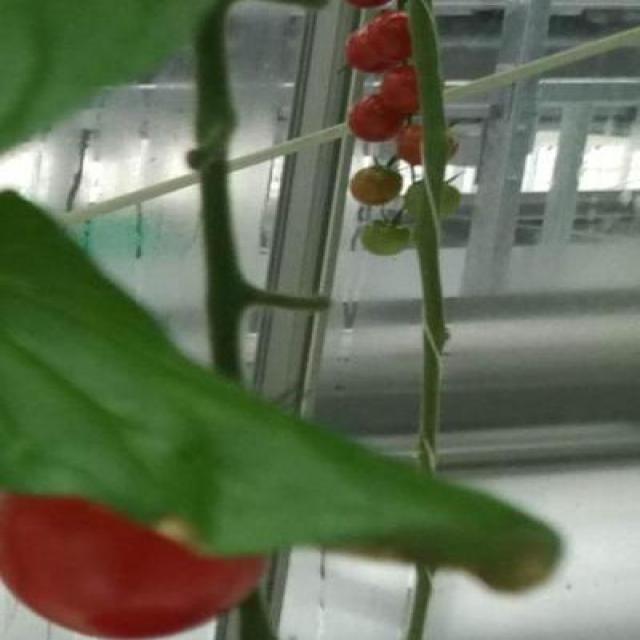tomato: (0, 487, 271, 637), (367, 7, 413, 61), (347, 30, 399, 72), (383, 68, 421, 115)
